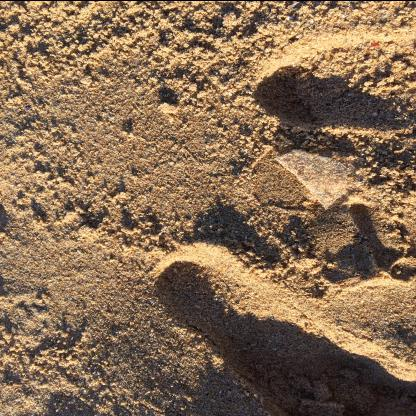plastik: (276, 150, 354, 209)
